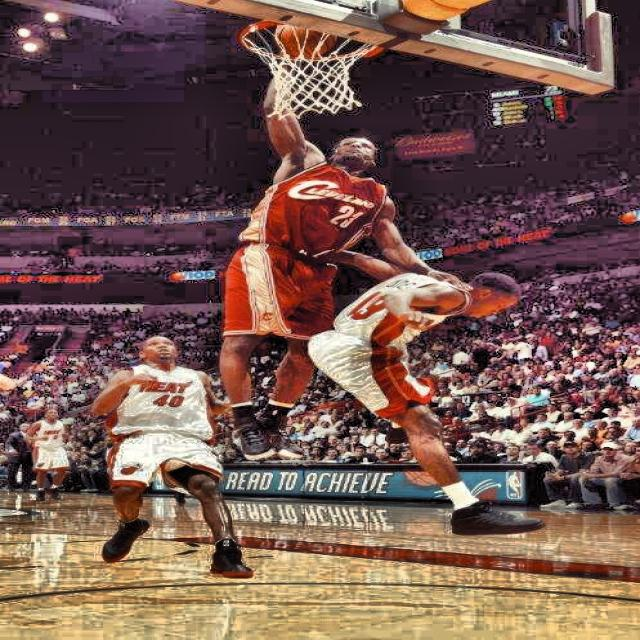rim: (240, 20, 386, 119)
